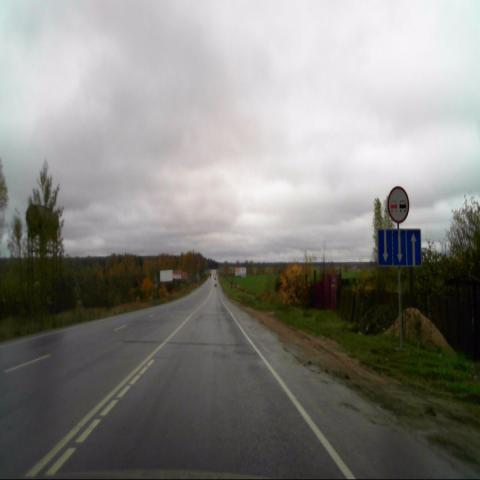3_20: (387, 186, 409, 223)
